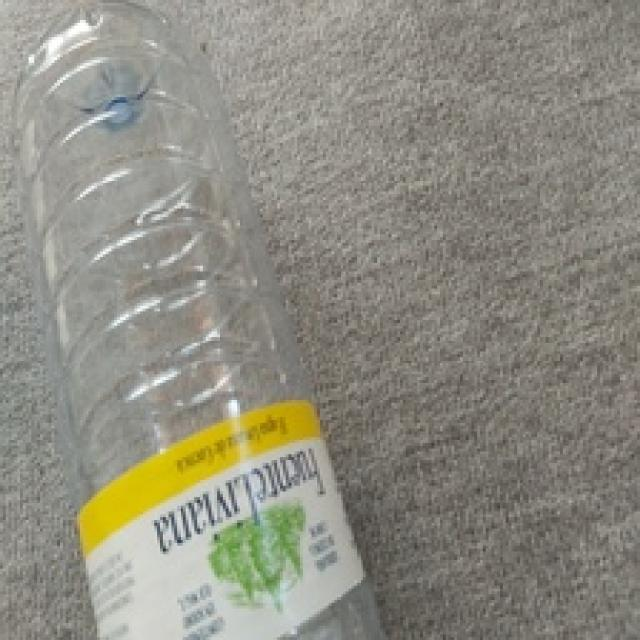Plastic: (16, 0, 386, 640)
